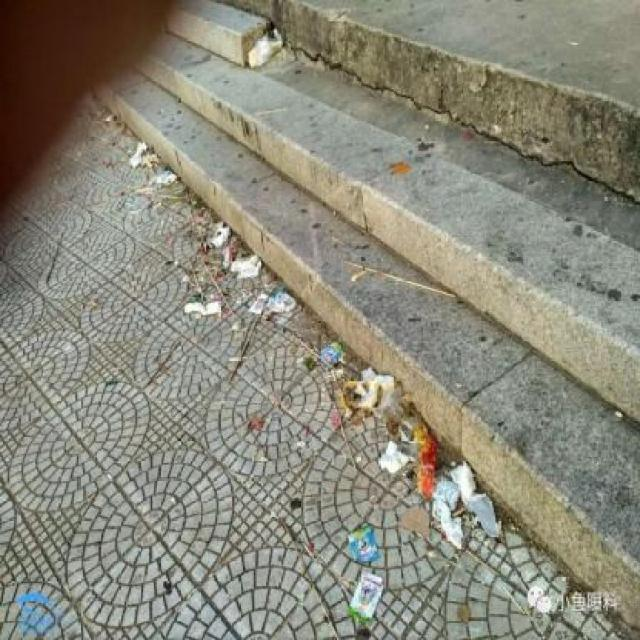garbage: (185, 211, 264, 314), (413, 465, 502, 548), (362, 399, 438, 470), (340, 525, 387, 628), (308, 326, 380, 391), (116, 135, 182, 204), (265, 274, 300, 322), (250, 29, 296, 64)
